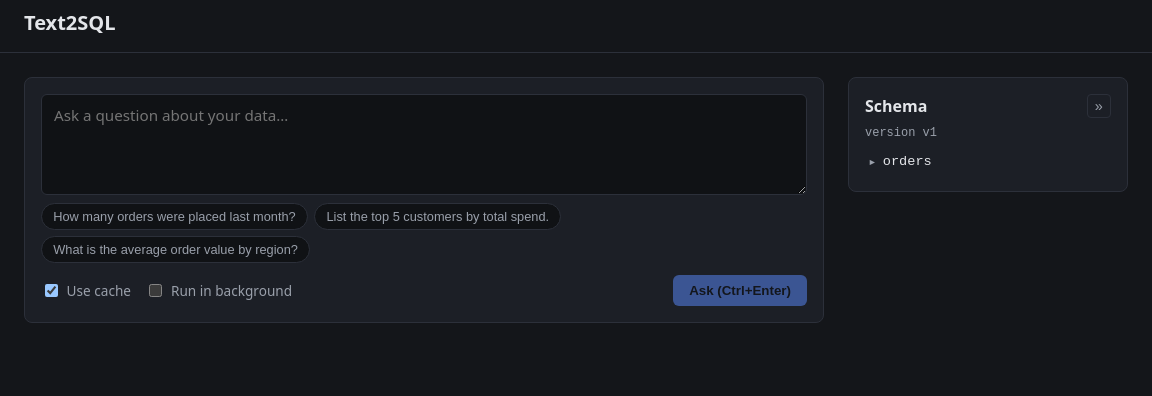
Scenario: App › shows the error banner when the request itself fails (ApiError)
Type "anything" into the text box with placeholder "Ask a question about your data…".
click(424, 145); type("anything")  # box [41,94,807,195]
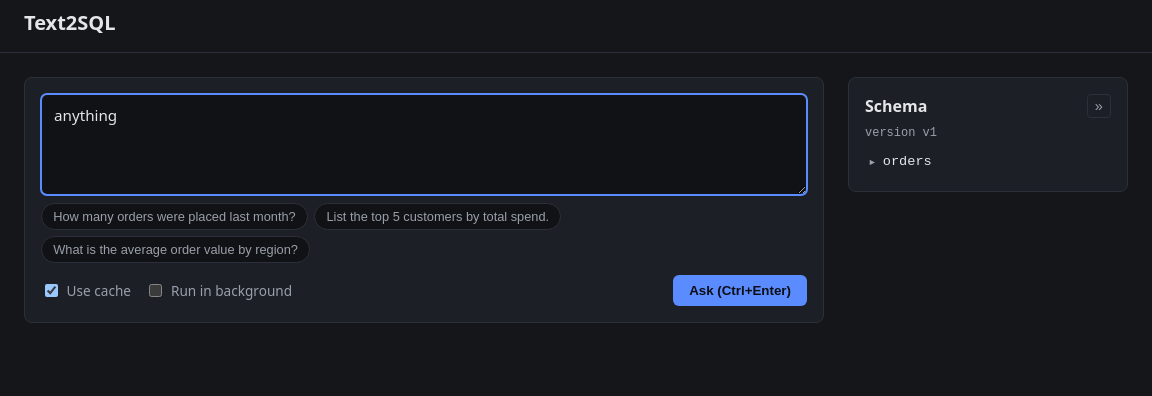
Click the button "Ask (Ctrl+Enter)".
click(740, 290)  # box [673,275,807,306]
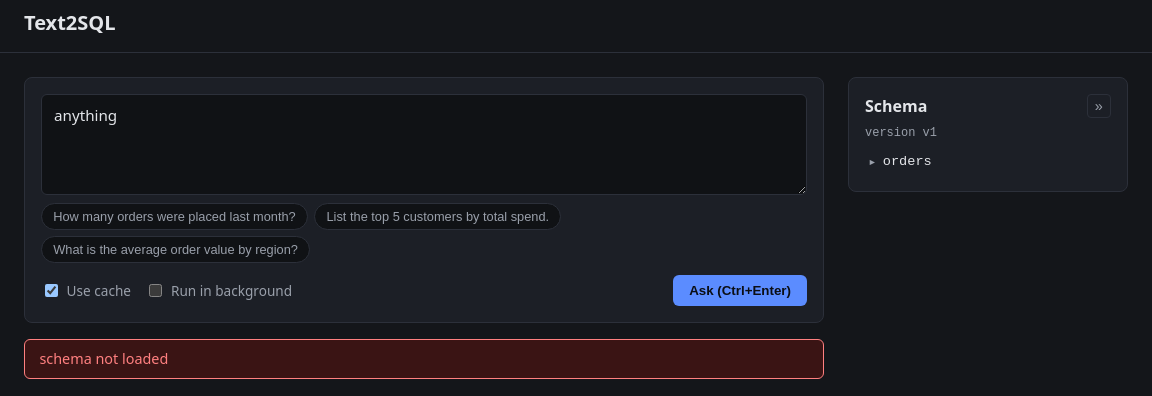
Expected: the message reads "schema not loaded", [39,349,168,368]
